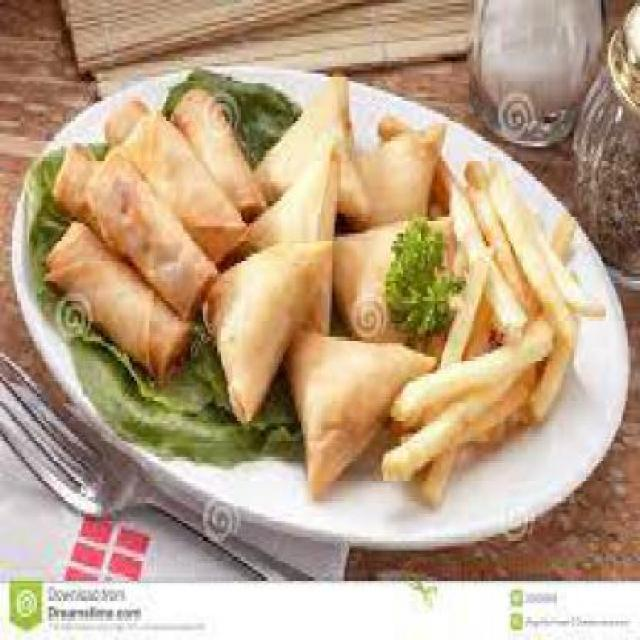french fries: (442, 146, 586, 480)
samosa: (237, 70, 418, 473)
spring rolls: (52, 80, 230, 377)
